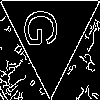G: (25, 8, 65, 47)
